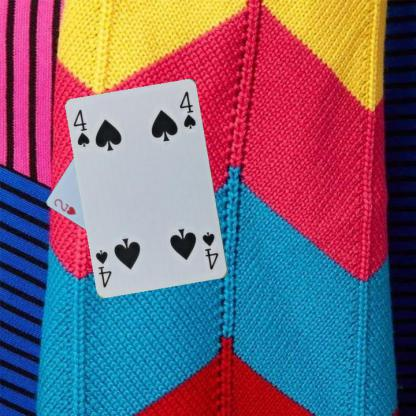2h: (52, 196, 78, 216)
4s: (70, 107, 92, 148), (199, 230, 220, 272)
